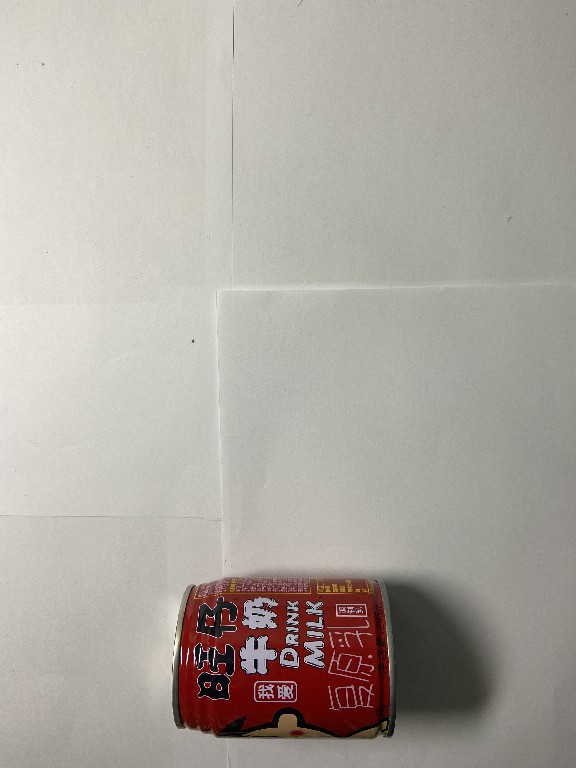can: (162, 570, 400, 748)
